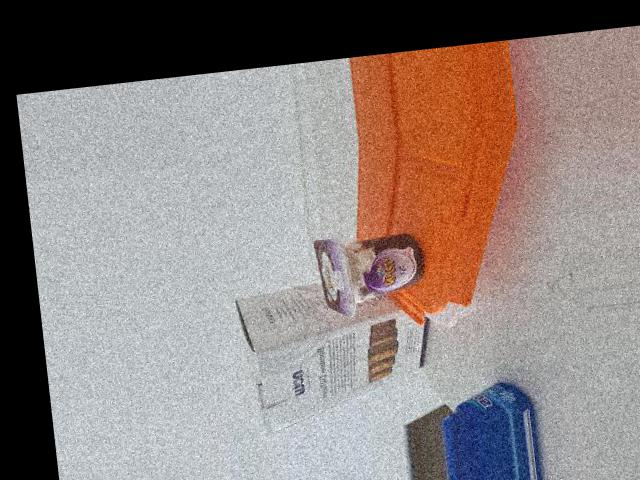milky: (317, 221, 432, 319)
